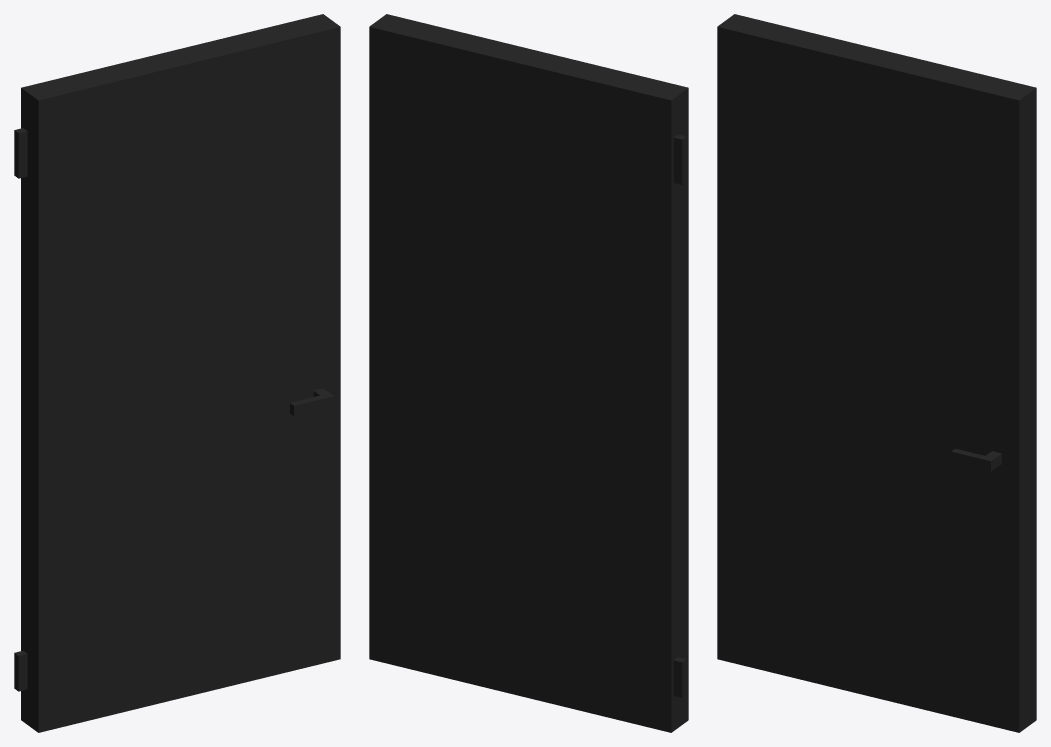
Rendered from Hangar_Tür.fbx.
The picture shows the model from 3 angles, left to right: view 1: azimuth 30°, elevation 25°; view 2: azimuth 150°, elevation 25°; view 3: azimuth 330°, elevation 25°; orthographic projection.
Parts seen in each view (by area): view 1: Hangar Tür; view 2: Hangar Tür; view 3: Hangar Tür.
Part boxes in pixels (x1,y1,x2,y2): Hangar Tür: [14, 14, 340, 732]; Hangar Tür: [369, 14, 688, 732]; Hangar Tür: [717, 14, 1036, 732].
Size of the model in its own units: 103 by 200 by 16.16.
1 material, 1 textured.
